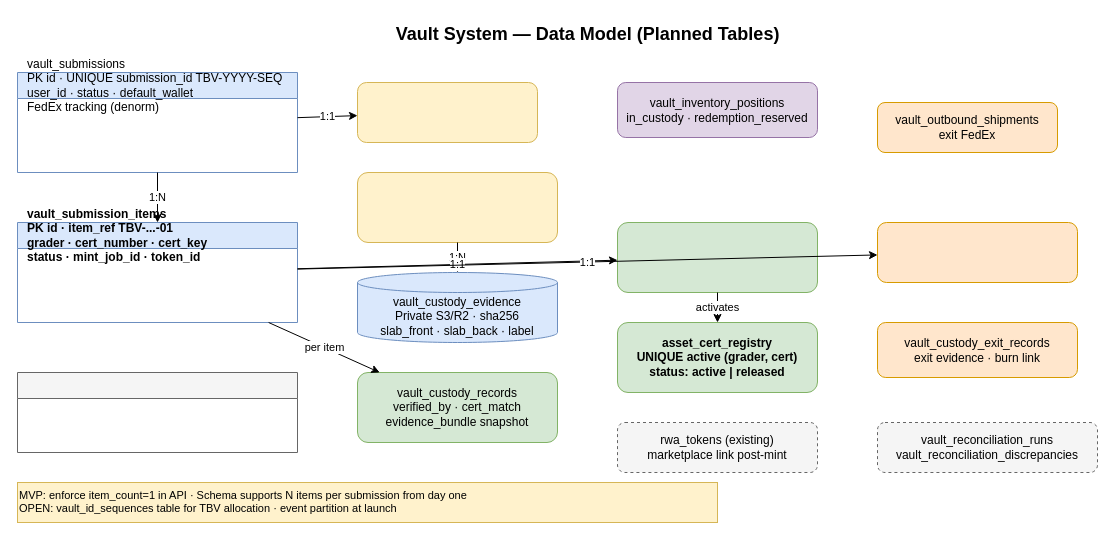
The diagram is 1115 pixels wide and 540 high, and some of its shapes have lost their labels. The shapes that lost their labels are listed below. From the top down, each one's centre as x and y in pixels, then its label:
At pixel 447 112: "vault_shipments inbound FedEx · tracking".
At pixel 457 207: "vault_intake_sessions INT-TBV-... · packaging_condition status: open → locked".
At pixel 717 257: "vault_mint_jobs queued → confirmed · tx_hash attempt_count · wallet_address".
At pixel 977 252: "vault_redemption_requests RDM-YYYY-SEQ · burn_tx".
At pixel 157 412: "vault_submission_events submission_id · item_id? · category MONTHLY PARTITION".
